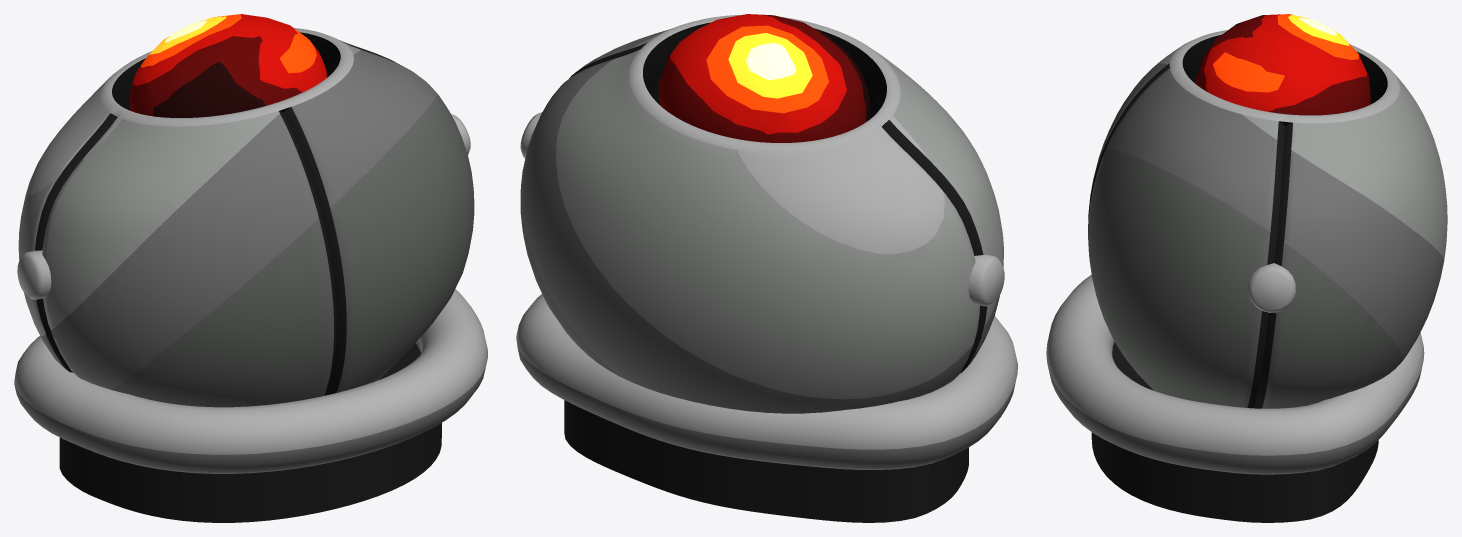
The model's file is eye_orb_123.glb.
3 renders of one model, left to right at view 1: azimuth 30°, elevation 25°; view 2: azimuth 150°, elevation 25°; view 3: azimuth 270°, elevation 25°, orthographic. The views are drawn at different scales.
Visible parts, largest first — view 1: shell, rim, foot, eye, boss-1; view 2: shell, rim, eye, foot, boss-1; view 3: shell, rim, eye, foot, boss1.
Boxes of the visible parts, x1,y1,x2,y2 form: shell: [18, 28, 474, 407]; rim: [14, 289, 487, 473]; foot: [59, 343, 441, 522]; eye: [130, 14, 327, 117]; boss-1: [17, 250, 51, 299]; shell: [520, 15, 1003, 413]; rim: [516, 294, 1017, 469]; eye: [659, 14, 869, 142]; foot: [564, 400, 968, 522]; boss-1: [968, 254, 1004, 306]; shell: [1088, 30, 1447, 408]; rim: [1046, 275, 1424, 474]; eye: [1195, 14, 1370, 115]; foot: [1091, 342, 1378, 522]; boss1: [1248, 263, 1295, 312].
Size of the model in its own units: 22.03 by 19.91 by 17.65.
